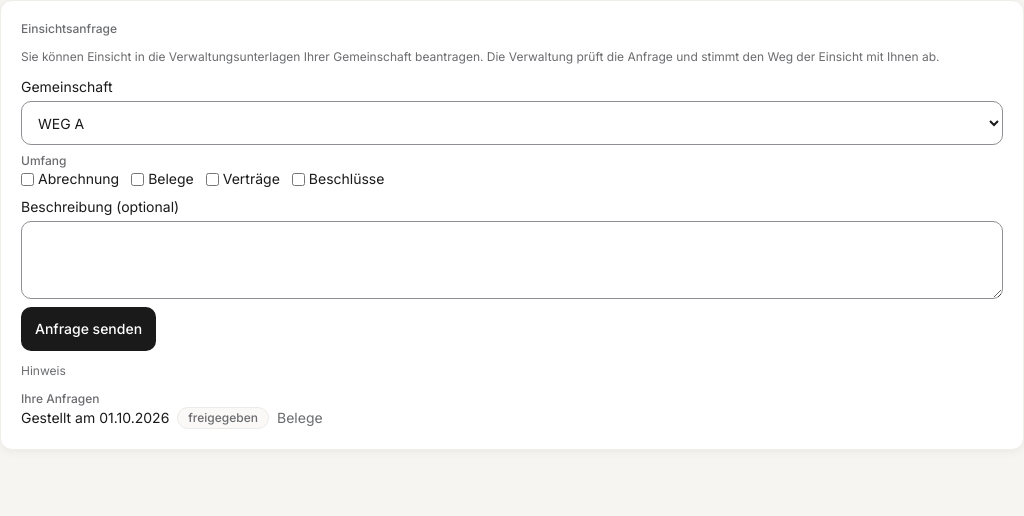
Test: OwnerInspectionPanel › requires a scope before posting
This screenshot has width=1024, height=516.
Click the button "Anfrage senden" at (89, 329), box [21,307,156,351]
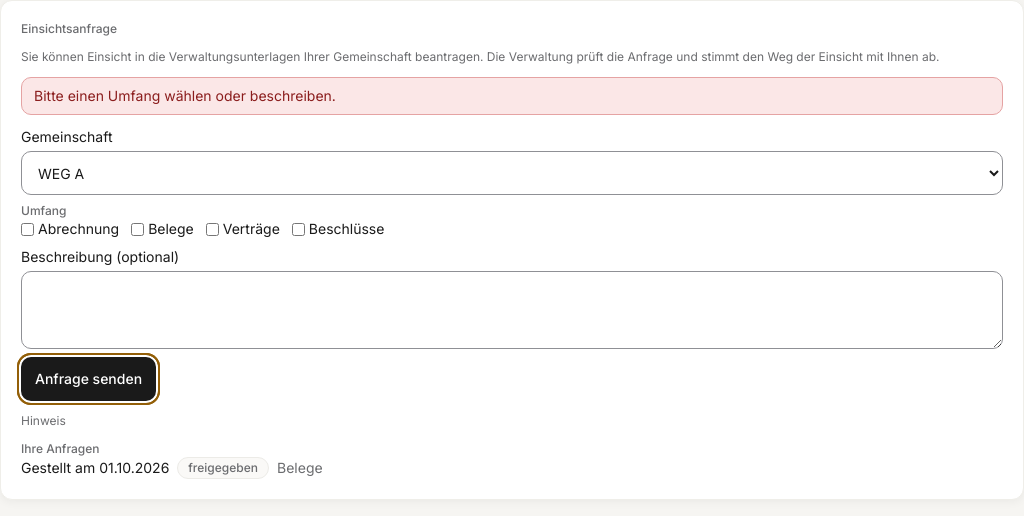
Expected: the message "Bitte einen Umfang wählen oder beschreiben." is shown, [21,77,1003,115]
